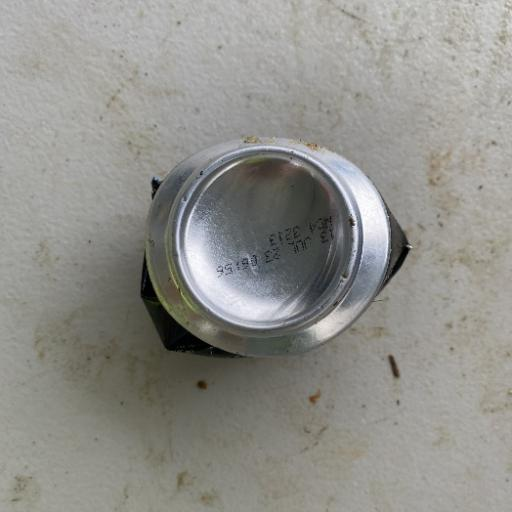Metal: (137, 132, 412, 360)
